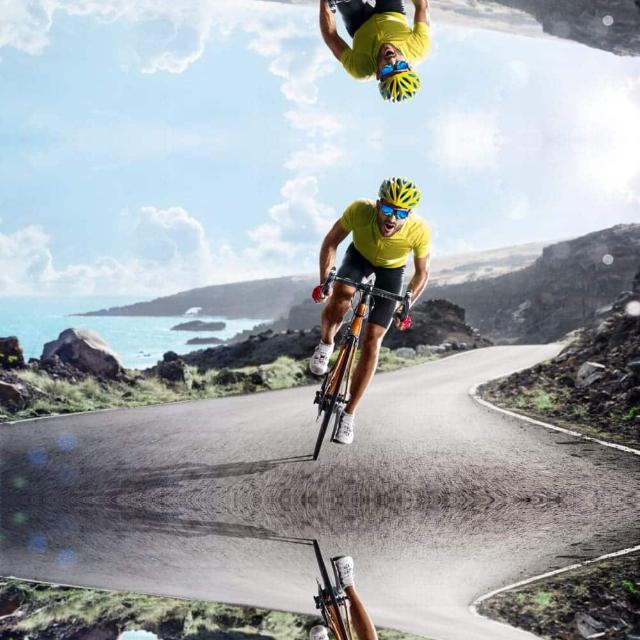obstacle: (296, 266, 414, 470), (296, 529, 414, 640), (296, 0, 414, 12)
